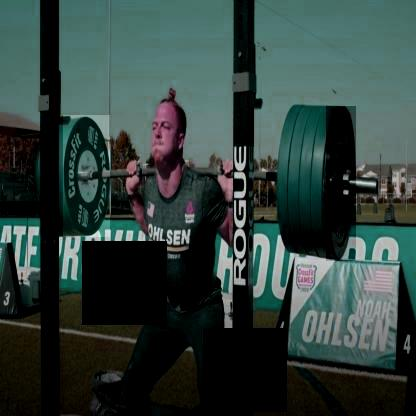barbell: (64, 115, 111, 237), (327, 106, 356, 262)
